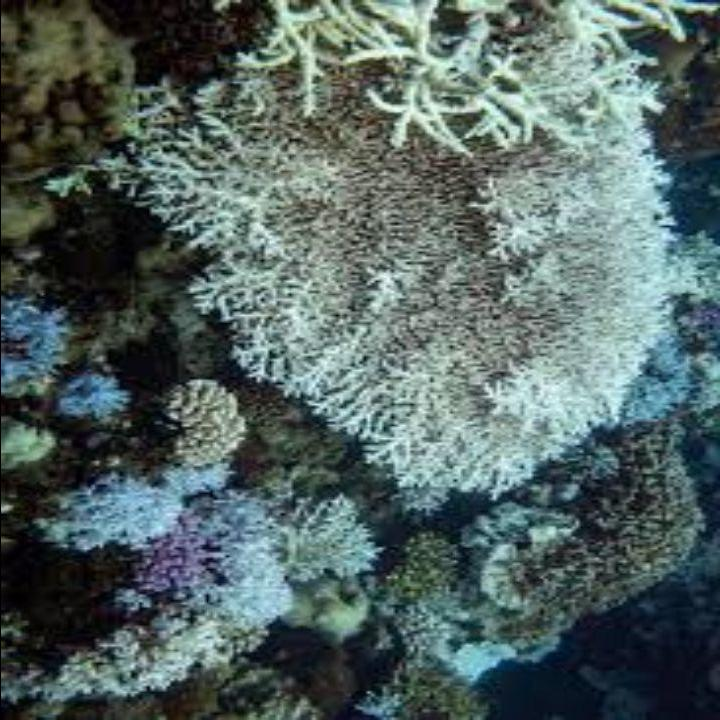Bleached disease: (93, 10, 665, 657)
